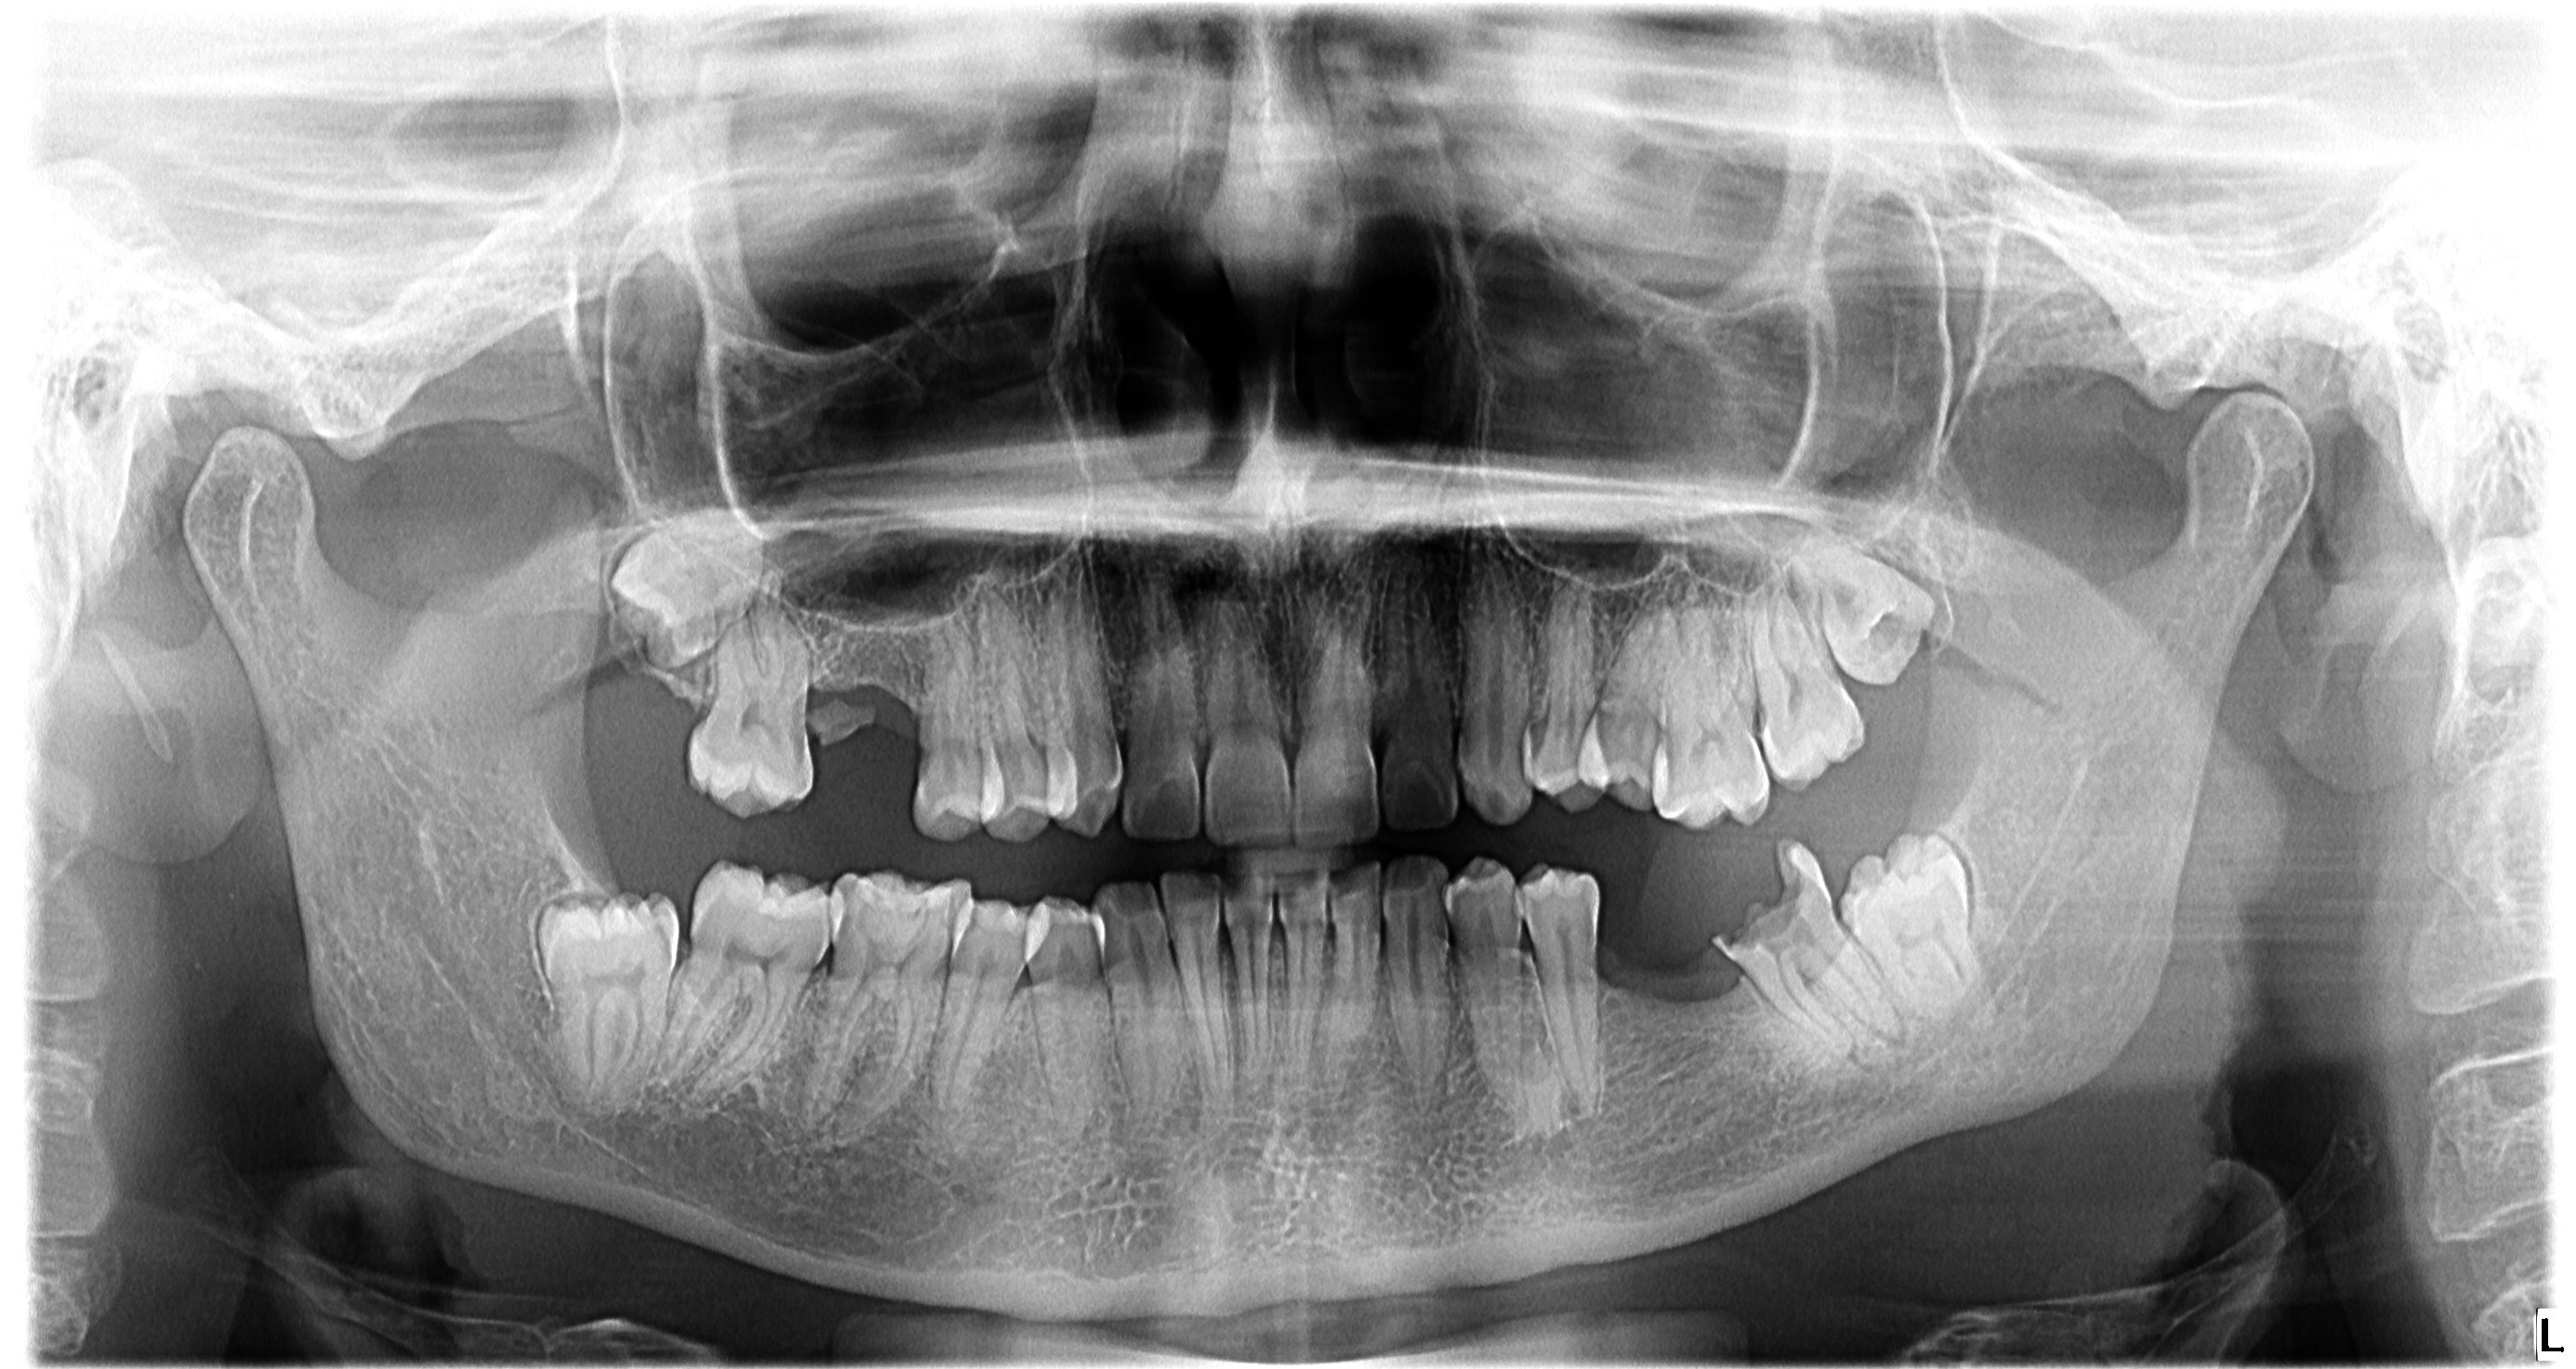API: (1826, 1022, 1884, 1097), (1857, 1001, 1925, 1059)
CAR: (1699, 824, 1835, 971)
IMT: (503, 877, 699, 1114), (579, 494, 789, 691), (1823, 821, 2022, 1015), (1799, 524, 1956, 700)
ROT: (789, 673, 889, 771)
